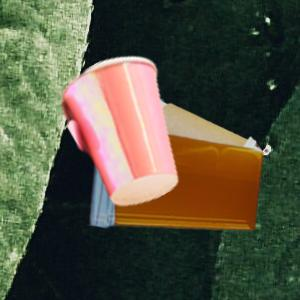cup: (63, 55, 181, 206)
